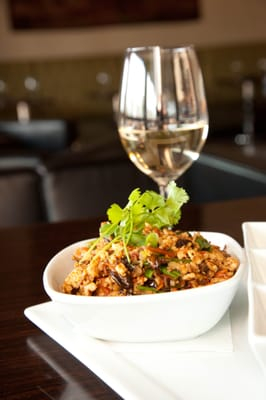sushi: (41, 229, 245, 344)
